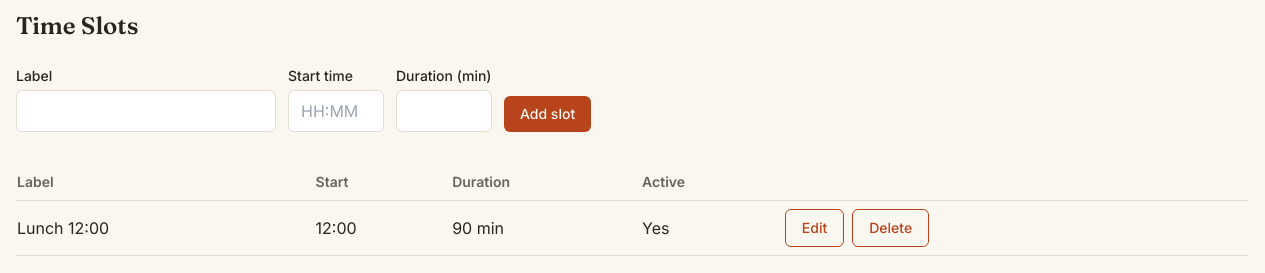
Test: AdminSlots › edits a slot
This screenshot has width=1265, height=273.
Click the button "Edit" at (814, 228), box left=785, top=209, right=844, bottom=247
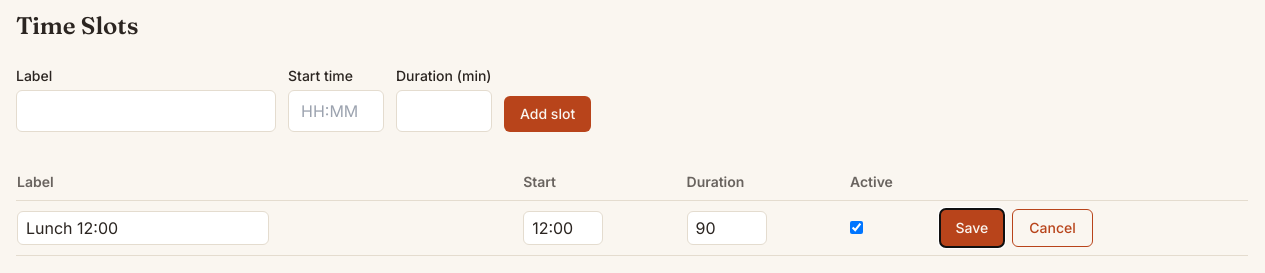
Replace the text in the field named "Edit label" with "Renamed Slot" at (143, 228), box left=17, top=211, right=269, bottom=245
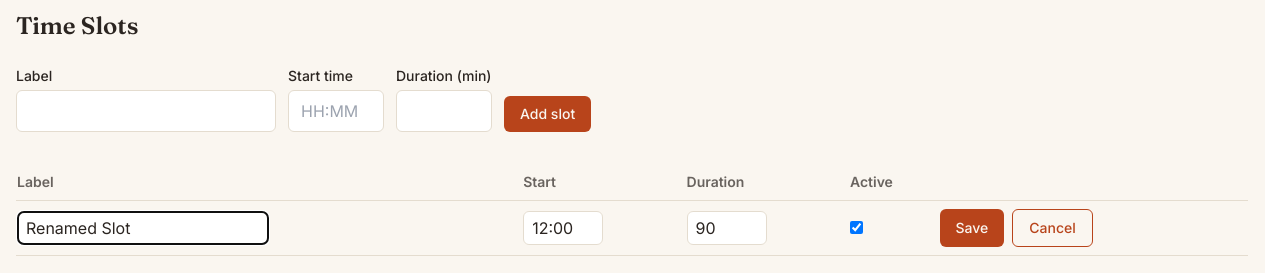
Click the button "Save" at (972, 228), box left=940, top=209, right=1004, bottom=247
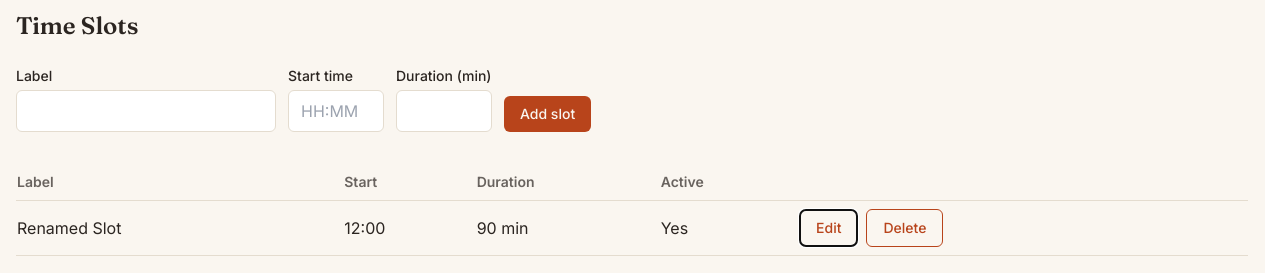
Expected: the text "Renamed Slot" is shown, left=16, top=200, right=343, bottom=256
